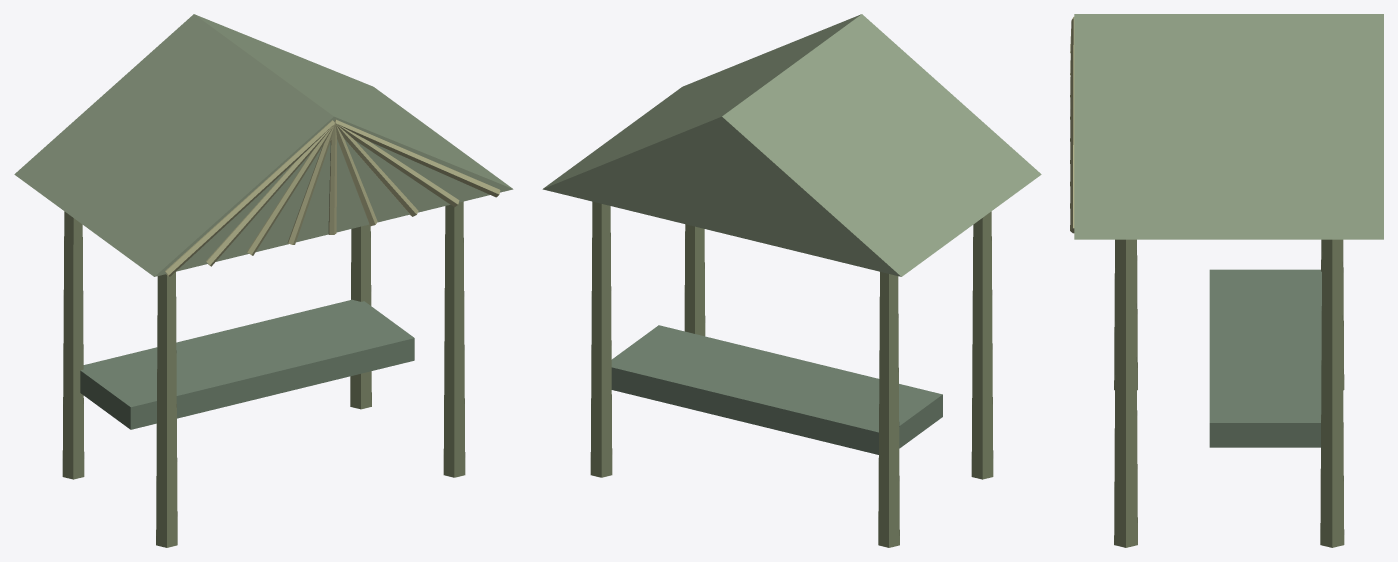
Rendered from map-exclusive-v3__lake_03.glb.
The picture shows the model from 3 angles, left to right: view 1: azimuth 30°, elevation 25°; view 2: azimuth 150°, elevation 25°; view 3: azimuth 270°, elevation 25°; orthographic projection. The views are drawn at different scales.
Parts seen in each view (by area): view 1: lake_03; view 2: lake_03; view 3: lake_03.
Part boxes in pixels (<box>): lake_03: <box>14,14,513,547</box>; lake_03: <box>542,14,1041,547</box>; lake_03: <box>1070,14,1383,547</box>.
Size of the model in its own units: 2 by 2.17 by 1.37.
